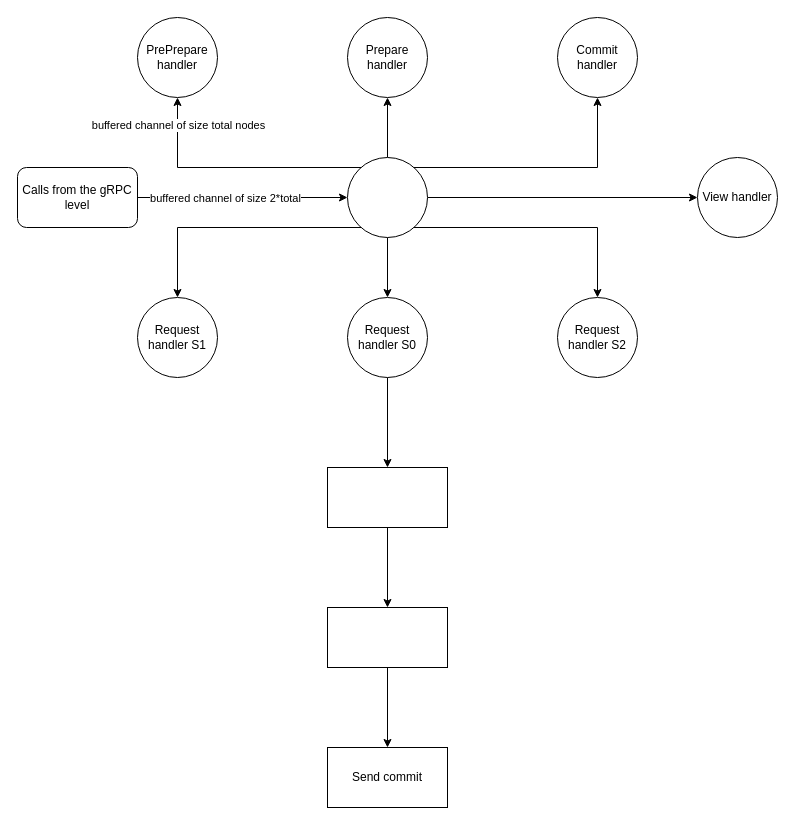
Image size: 795x825. Some labels were removed from this diagram. Each missing label, with the centre of its shape:
"Consensus" belongs at pixel 387 197.
"Send prepares & wait for 2f+1" belongs at pixel 387 637.
"Send preprepares & wait for 2f+1" belongs at pixel 387 497.
